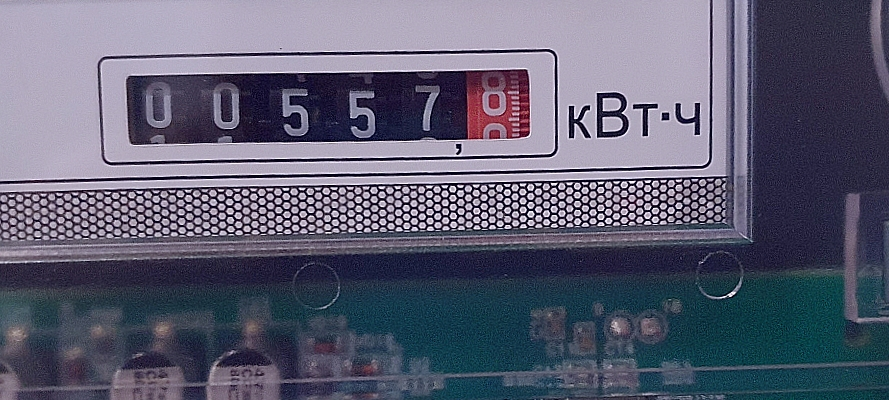0: (139, 75, 176, 133), (207, 78, 243, 131)
5: (342, 82, 382, 141), (276, 82, 312, 140)
7: (407, 78, 442, 135)
8: (478, 68, 508, 119)
screen: (92, 29, 565, 180)
